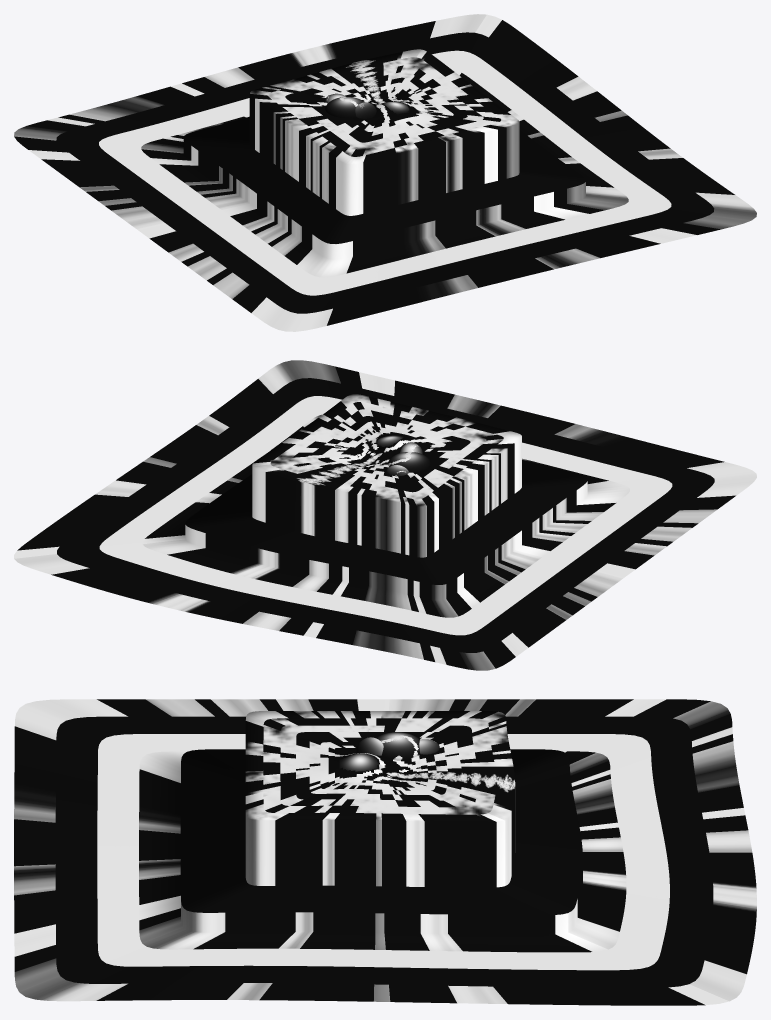
File: Terrain_test (1).fbx
3 views of the same model, one above another, from view 1: azimuth 30°, elevation 25°; view 2: azimuth 150°, elevation 25°; view 3: azimuth 270°, elevation 25° (orthographic). The views are drawn at different scales.
Visible parts, largest first — view 1: terrain; view 2: terrain; view 3: terrain.
Part boxes in pixels (x1=…): terrain: x1=14, y1=14, x2=756, y2=331; terrain: x1=14, y1=360, x2=756, y2=670; terrain: x1=14, y1=699, x2=756, y2=1005.
Bounding box in the file's own units: 18395 × 2831 × 18884.
Materials: 1 (1 with a texture image).
